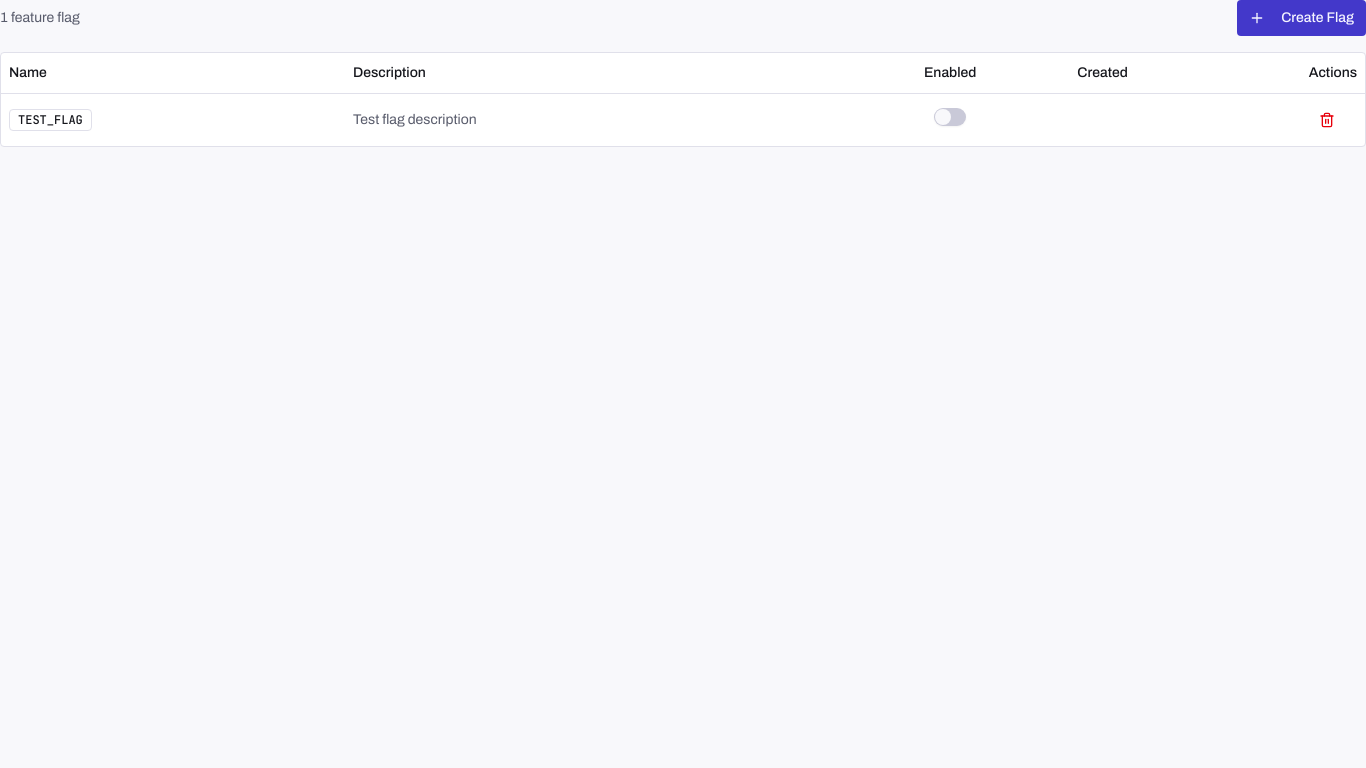
Test: components/admin/feature-flag-list › delete functionality › should display error message on delete failure
Click the 3rd button: x=1327, y=120 [1309, 102, 1345, 138]
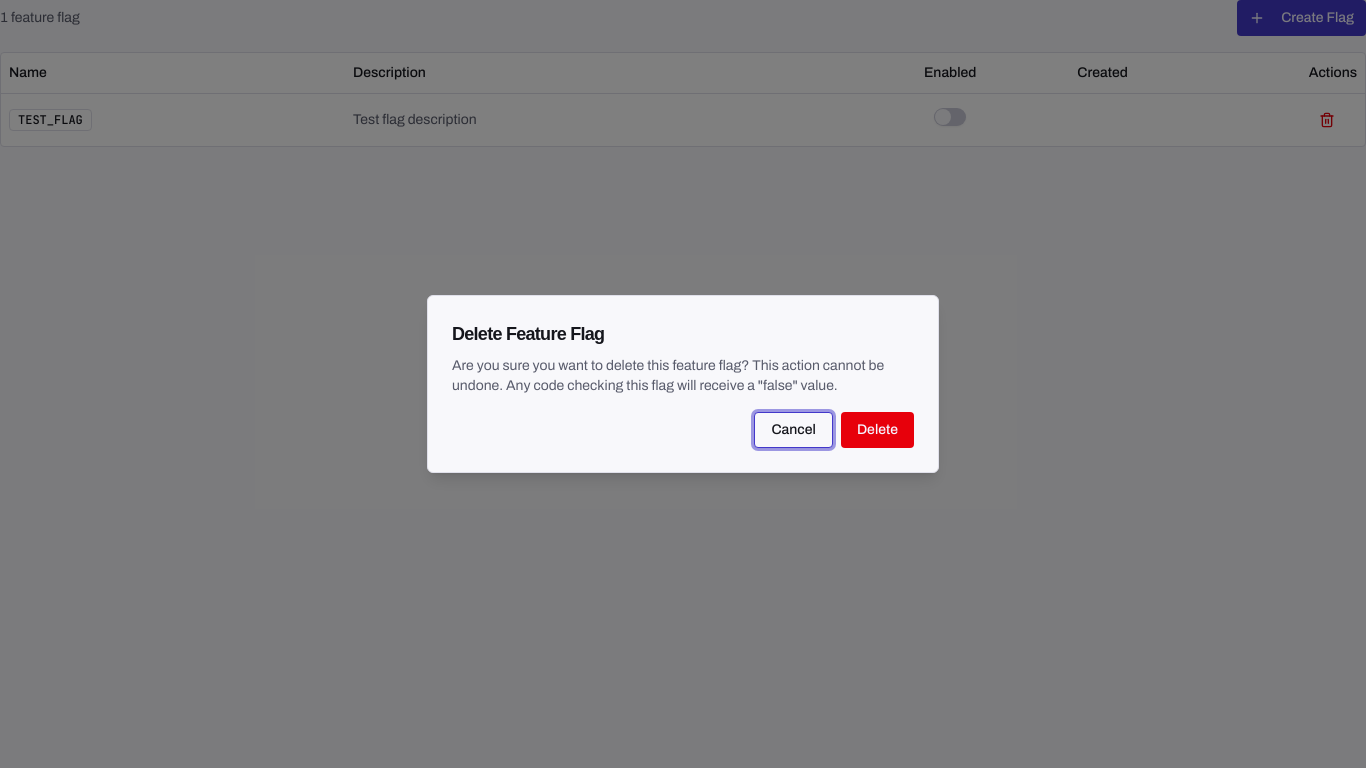
Now the dialog is shown, box [427, 295, 939, 473]
Click the button "Delete": x=877, y=430 [841, 412, 914, 448]
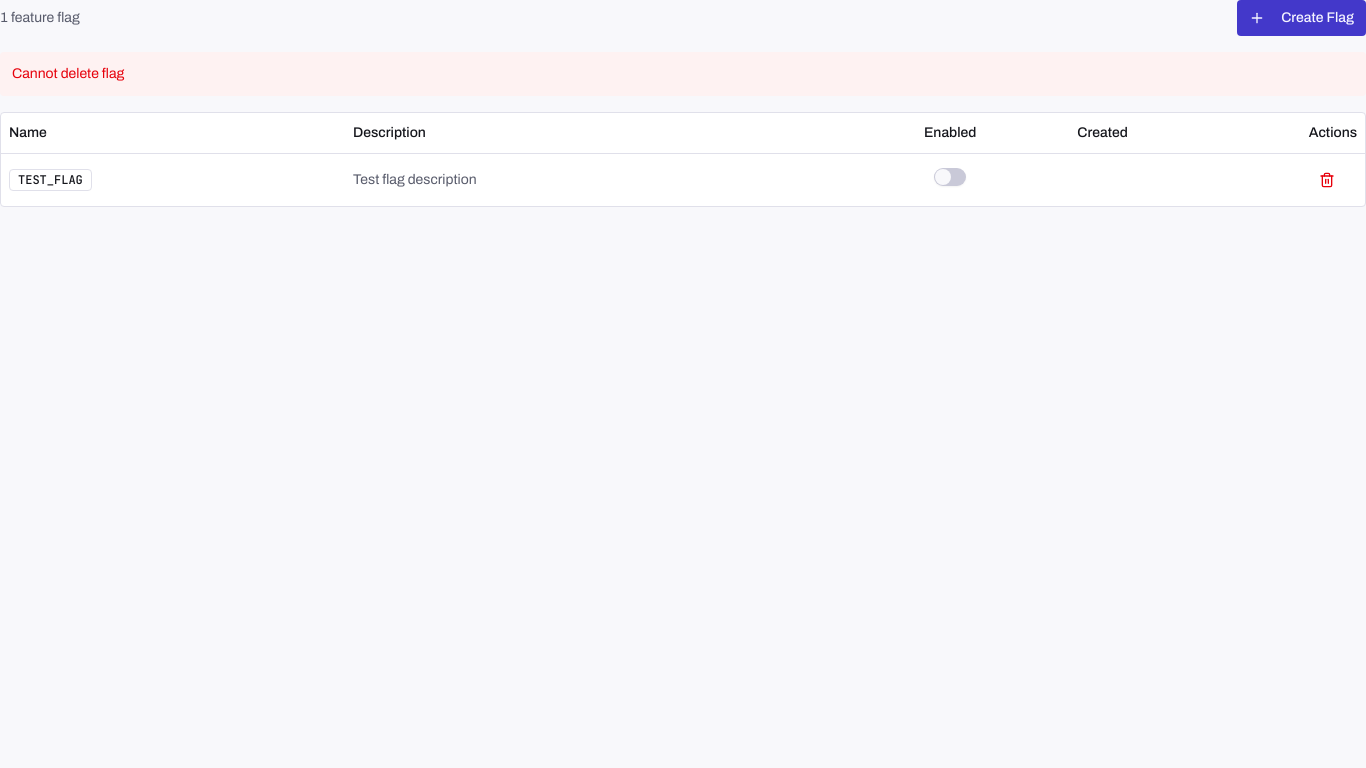
Now the text "Cannot delete flag" is shown, box [0, 52, 1365, 96]
